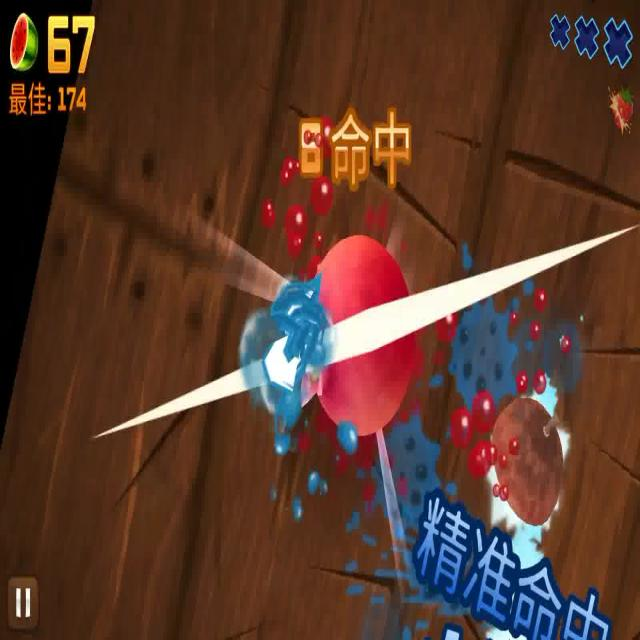fruit: (301, 230, 415, 434), (490, 392, 562, 532)
